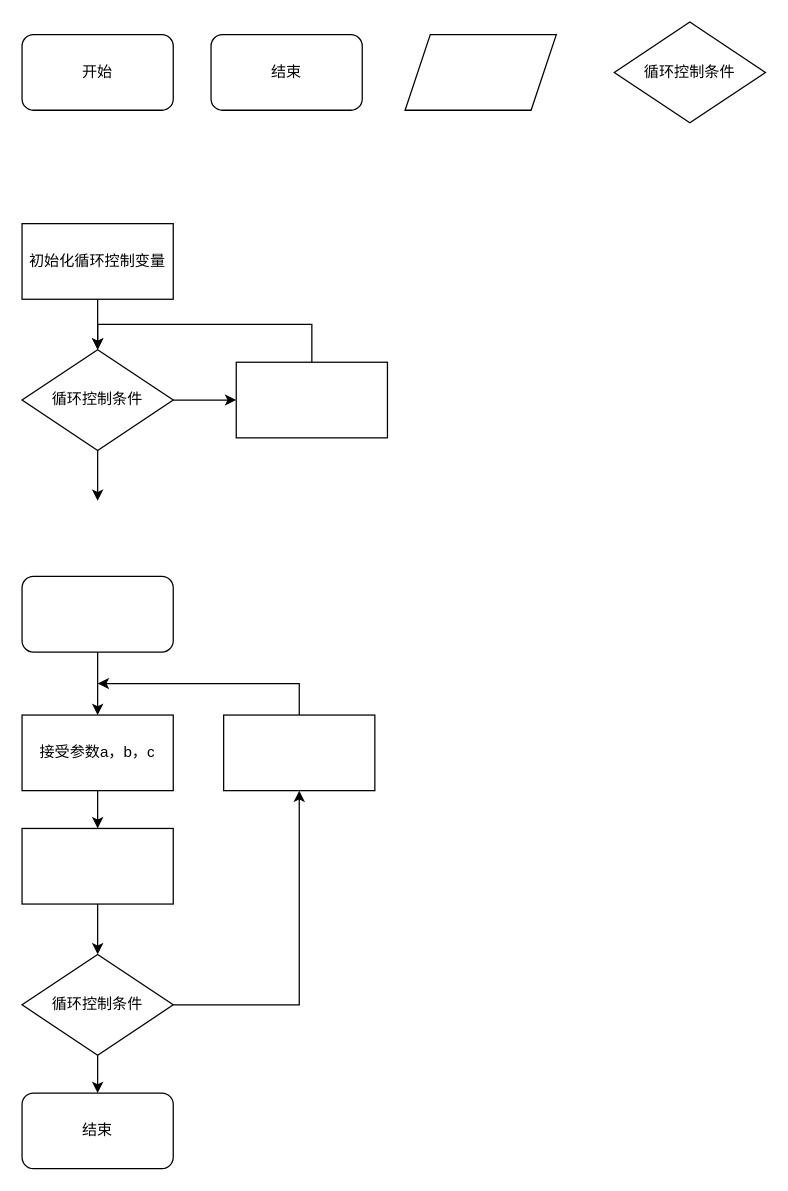
This 788x1191 diagram has some shape labels left out. Here are the shapes that lost their labels. From the top down, the centre of each, then its label:
At (480,71): "输入 输出".
At (97,613): "函数名 开始".
At (298,752): "传递参数".
At (97,865): "操作".
